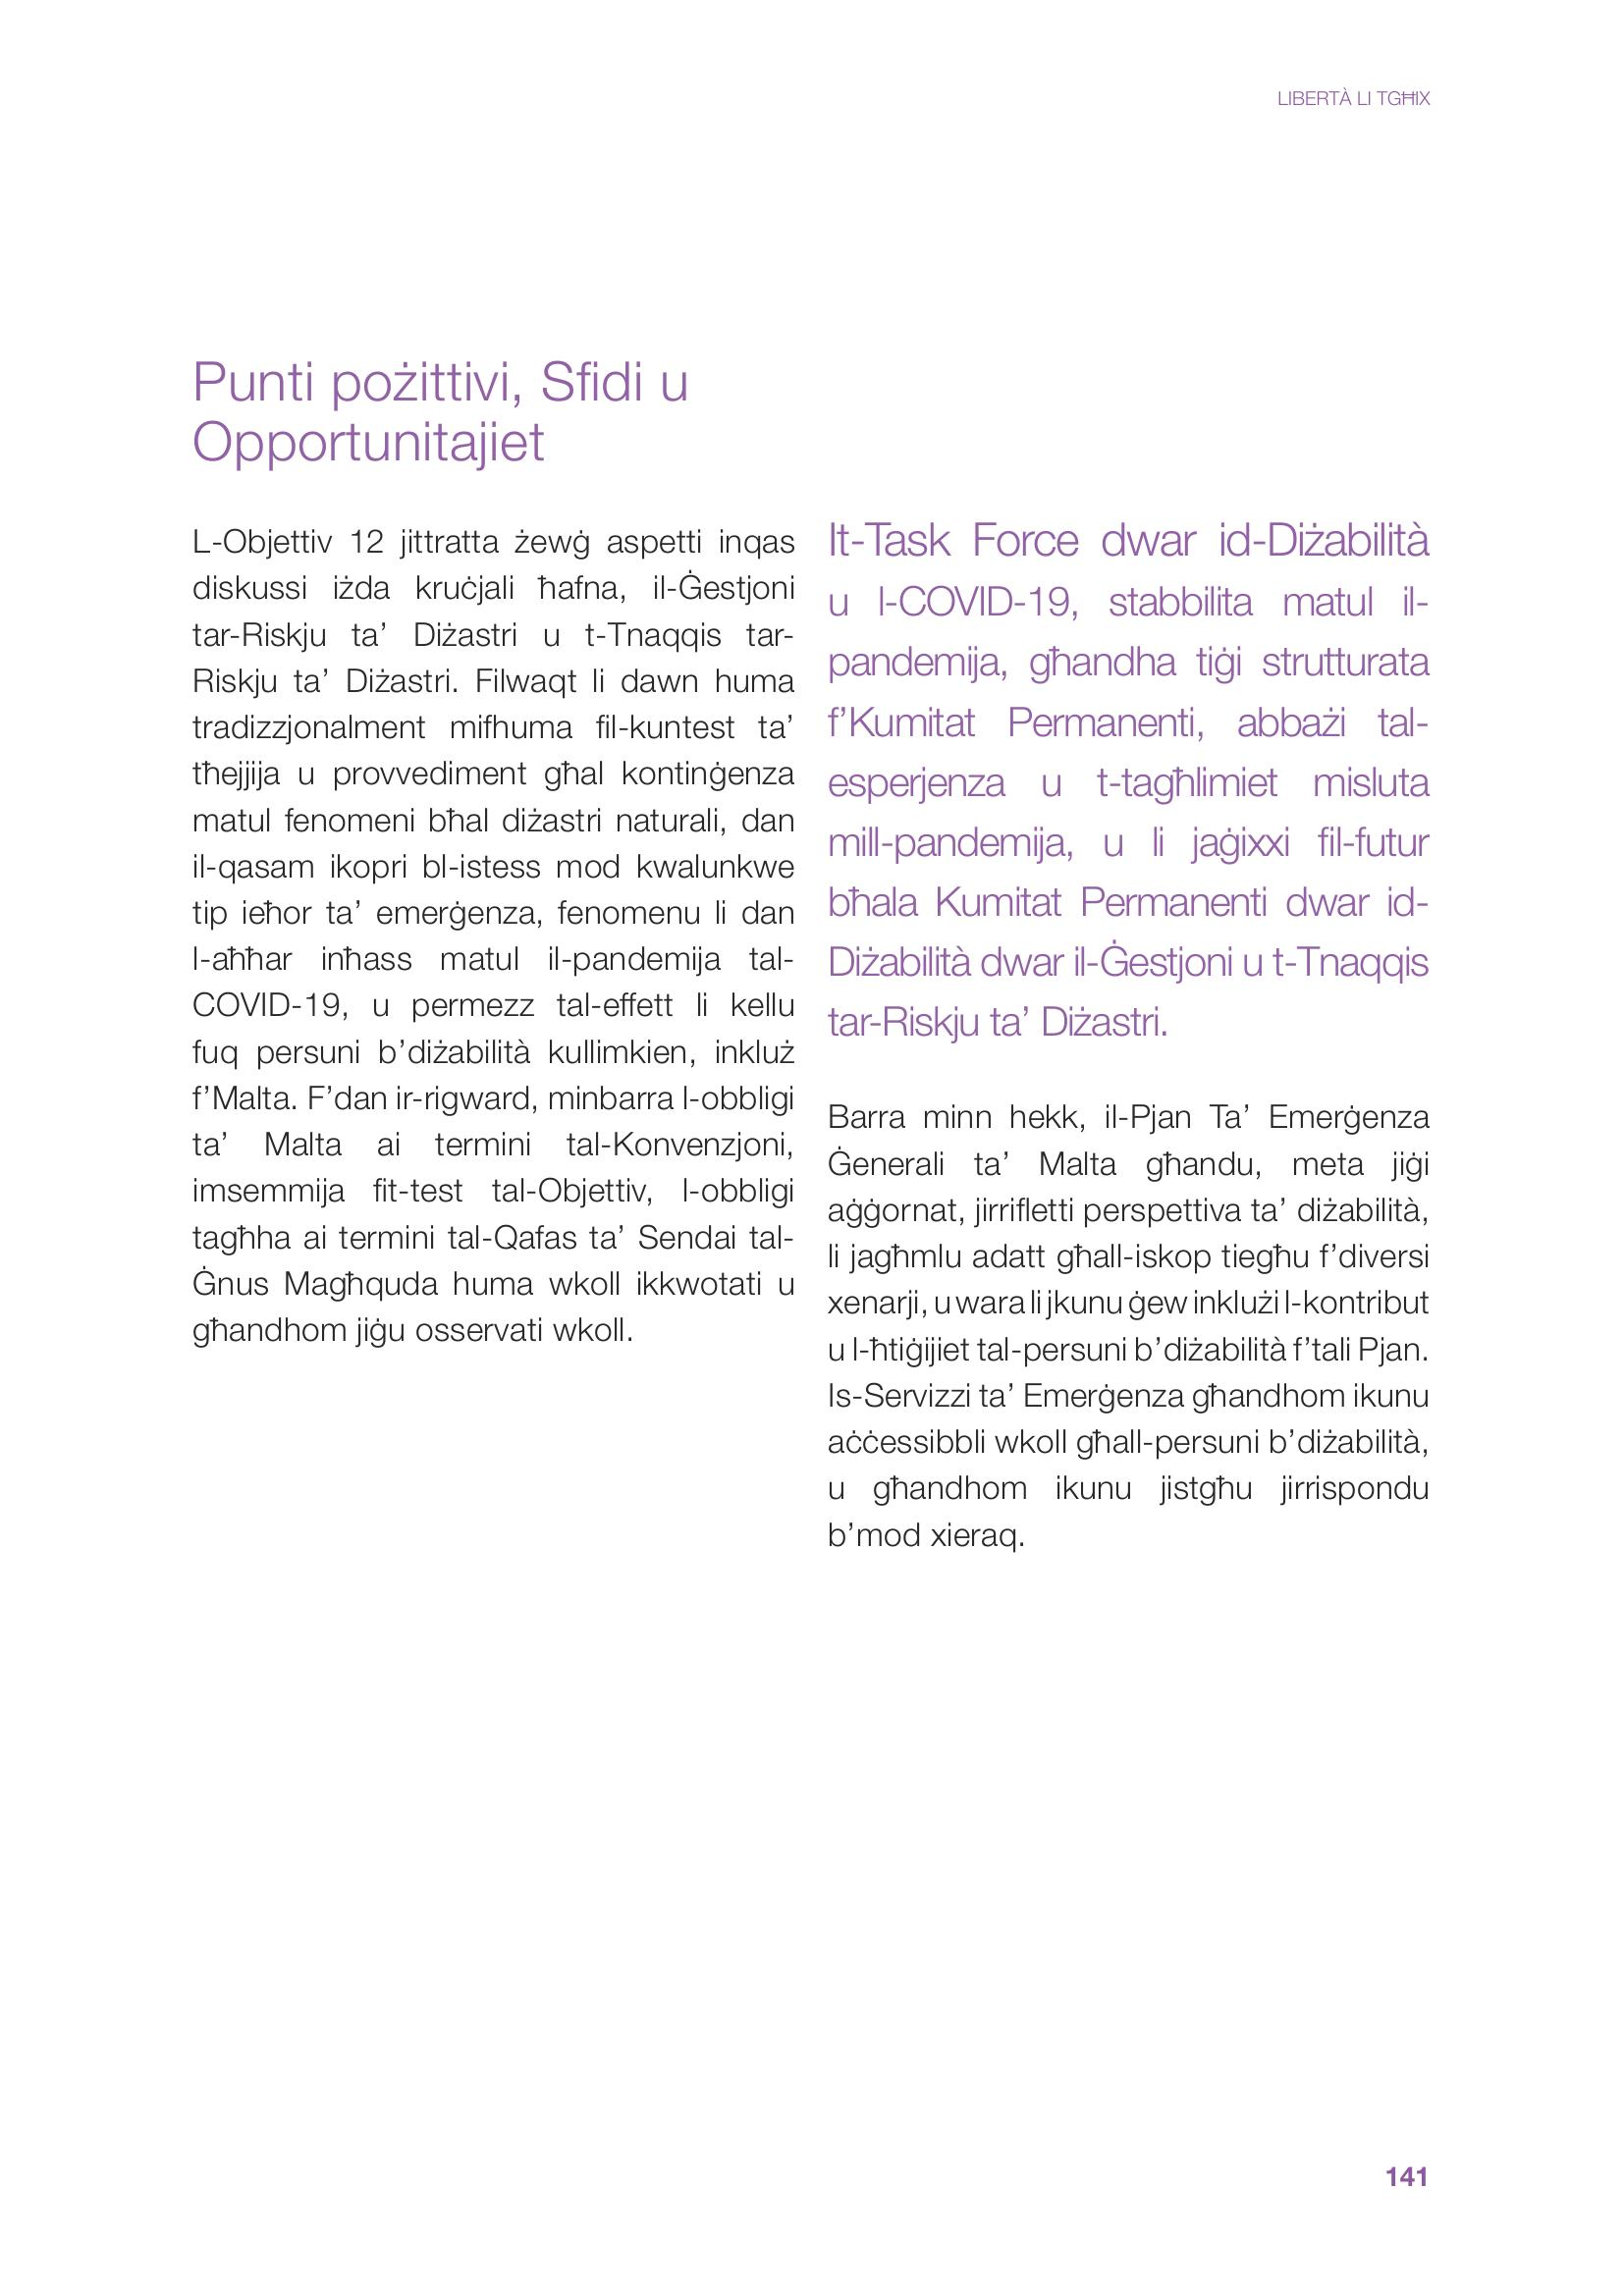text: (808, 513, 1476, 1590), (172, 339, 808, 1365)
